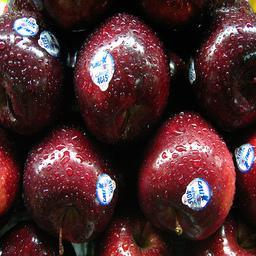apple: (132, 116, 238, 241), (74, 17, 174, 146), (22, 128, 118, 245), (188, 3, 254, 139), (0, 9, 67, 138), (96, 215, 171, 254)
